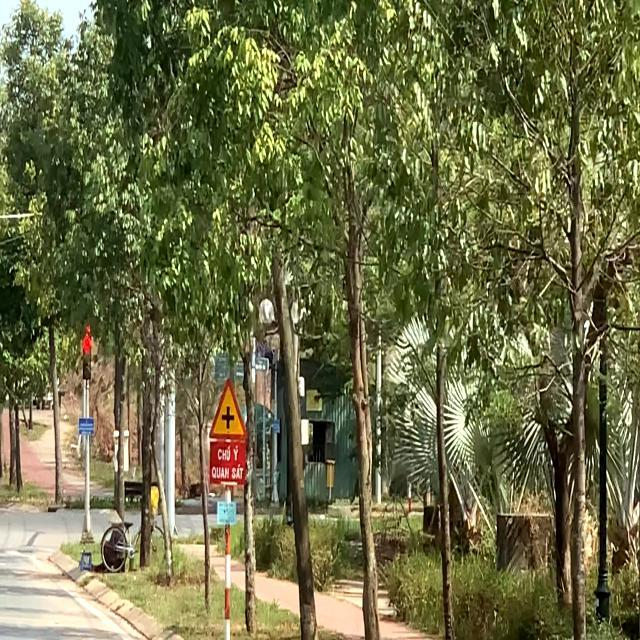W-205a: (210, 378, 247, 440)
